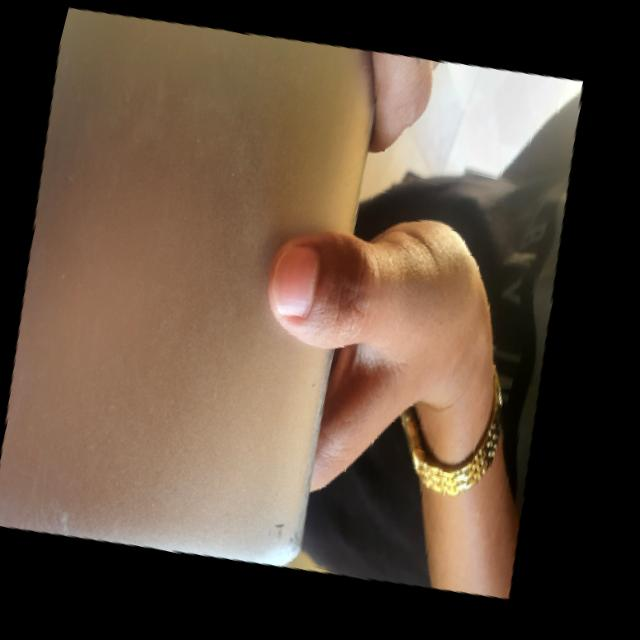Nail: (271, 244, 318, 317)
